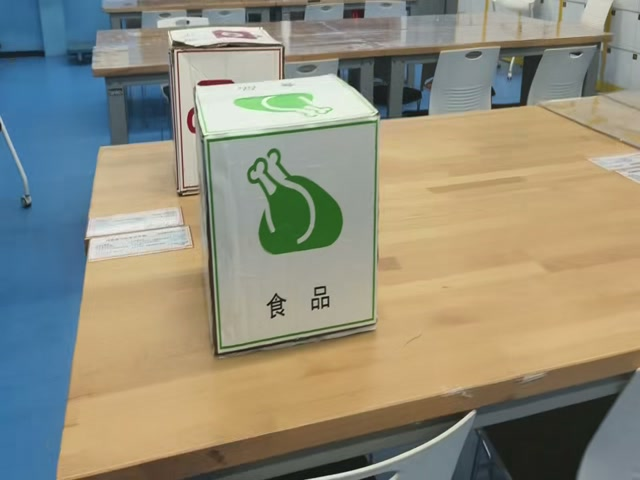Cube_food: (196, 75, 377, 146)
Cube_medicine: (165, 22, 285, 55)
